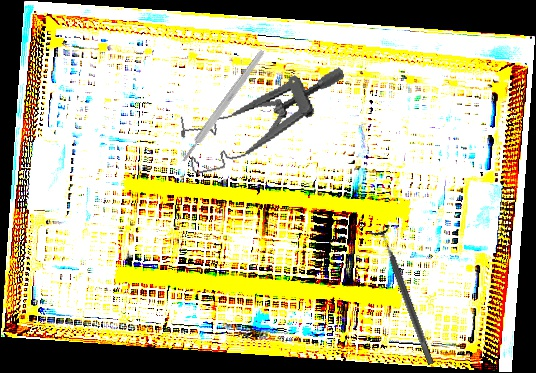Fixation Ring: (367, 223, 443, 369)
Scalpel Handle: (179, 48, 267, 164)
Speculum: (173, 64, 359, 177)
